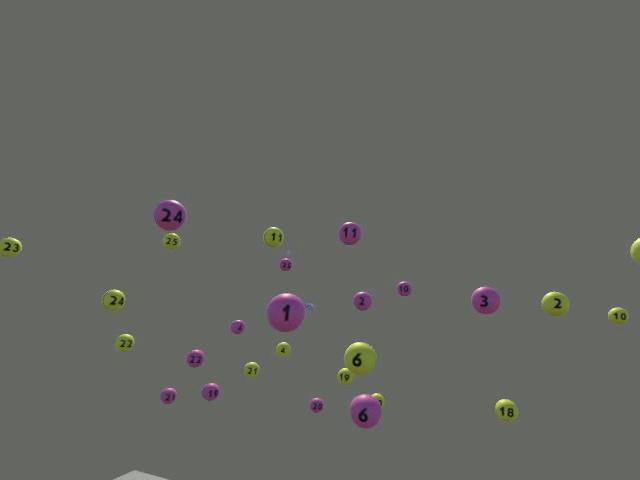ball_01_pink: (267, 293, 305, 331)
ball_02_pink: (352, 292, 372, 310)
ball_02_yellow: (540, 291, 569, 316)
ball_03_pink: (471, 287, 500, 314), (230, 320, 245, 334)
ball_04_yellow: (275, 342, 290, 357)
ball_06_pink: (349, 393, 381, 428)
ball_06_yellow: (343, 342, 376, 375)
ball_10_pink: (396, 282, 411, 296)
ball_10_yellow: (607, 306, 628, 324)
ball_11_pink: (339, 222, 360, 244)
ball_11_yellow: (262, 226, 283, 247)
ball_18_yellow: (494, 398, 517, 422)
ball_19_pink: (202, 383, 219, 400)
ball_19_yellow: (336, 367, 354, 384)
ball_20_pink: (309, 397, 323, 413)
ball_21_pink: (160, 387, 178, 404)
ball_21_yellow: (243, 361, 259, 377)
ball_22_pink: (185, 350, 204, 367)
ball_22_yellow: (115, 334, 134, 352)
ball_23_yellow: (1, 237, 22, 256)
ball_24_pink: (153, 200, 186, 230)
ball_24_yellow: (101, 288, 125, 310)
ball_25_pink: (280, 258, 292, 271)
ball_25_yellow: (162, 233, 180, 249)
ball_unknown: (629, 237, 639, 264), (371, 392, 384, 407)
